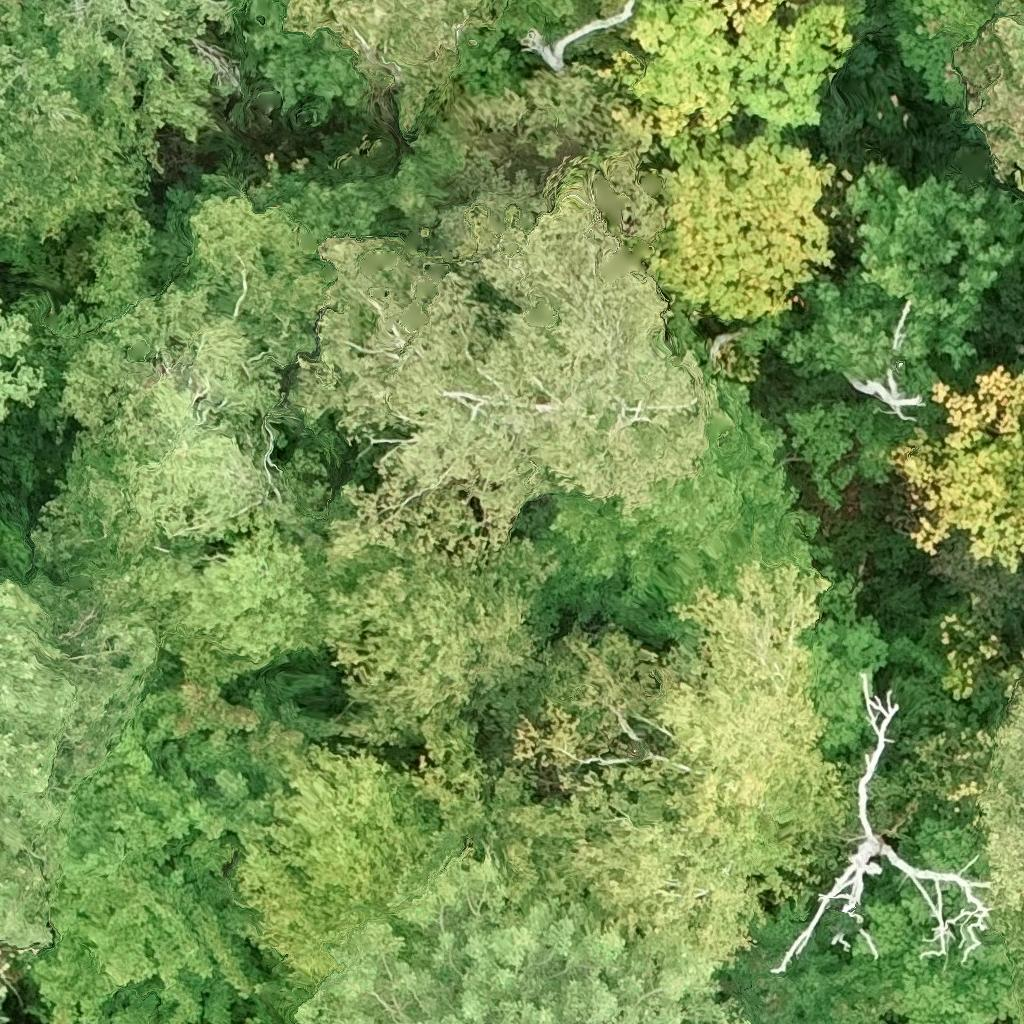crown: (275, 74, 717, 562), (13, 120, 460, 580), (525, 384, 883, 764), (18, 686, 336, 1023), (550, 0, 861, 322), (784, 158, 1016, 507), (295, 858, 747, 1023), (503, 757, 817, 970), (770, 674, 993, 972), (232, 740, 483, 988), (62, 523, 401, 697), (0, 574, 157, 948), (647, 563, 850, 840), (329, 539, 563, 741), (0, 0, 231, 186), (464, 623, 699, 805), (843, 815, 1023, 1023), (923, 679, 1023, 984), (889, 367, 1023, 571), (405, 696, 540, 887), (0, 108, 144, 241), (0, 294, 45, 420), (846, 369, 925, 420), (246, 981, 320, 1023), (0, 981, 6, 1023)
